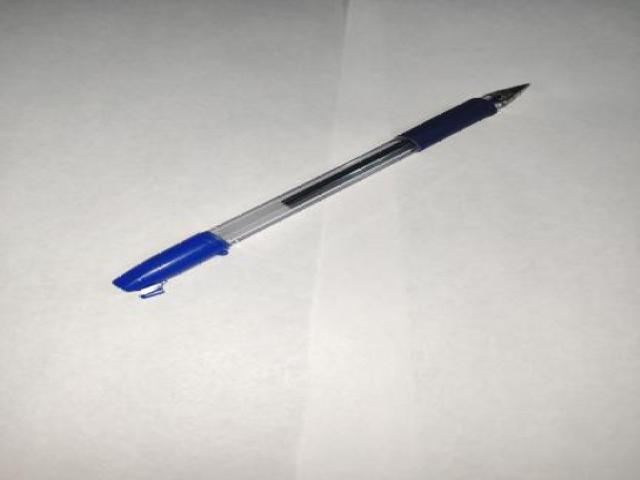PEN: (107, 58, 542, 312)
